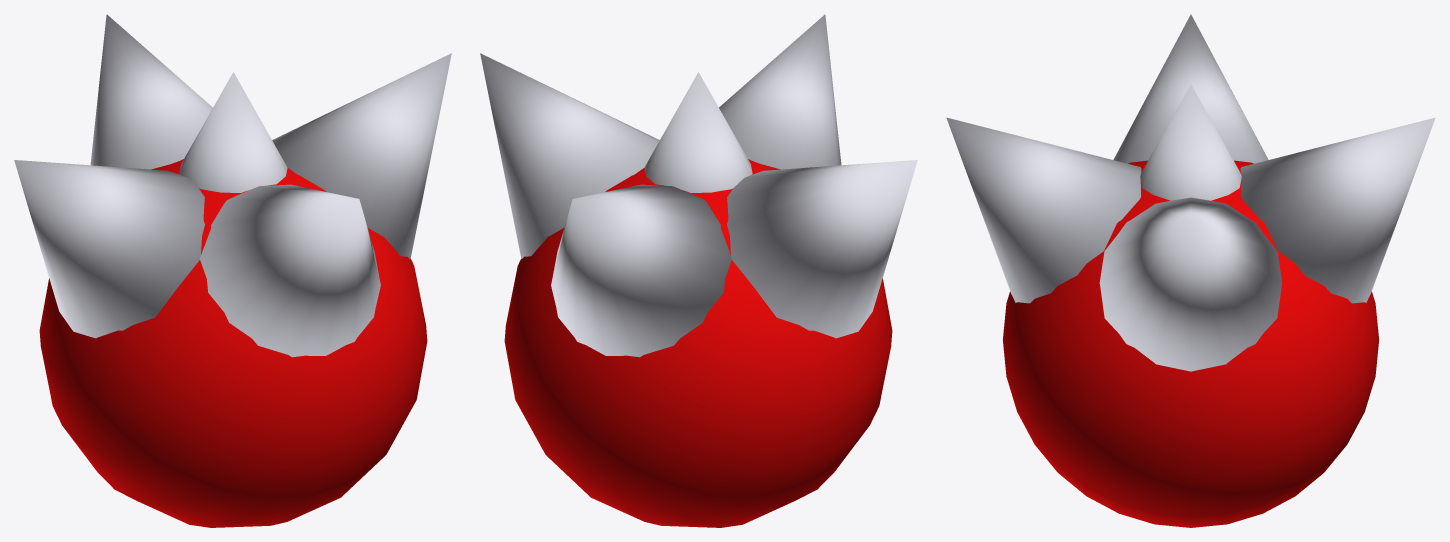
File: LCharger.fbx
3 renders of one model, left to right at view 1: azimuth 30°, elevation 25°; view 2: azimuth 150°, elevation 25°; view 3: azimuth 270°, elevation 25°, orthographic. The views are drawn at different scales.
Parts seen in each view (by area): view 1: Sphere; view 2: Sphere; view 3: Sphere.
Boxes of the visible parts, <box> form: Sphere: <box>14,14,451,527</box>; Sphere: <box>480,14,917,527</box>; Sphere: <box>946,14,1435,527</box>.
Bounding box in the file's own units: 5.2 × 5 × 5.2.
